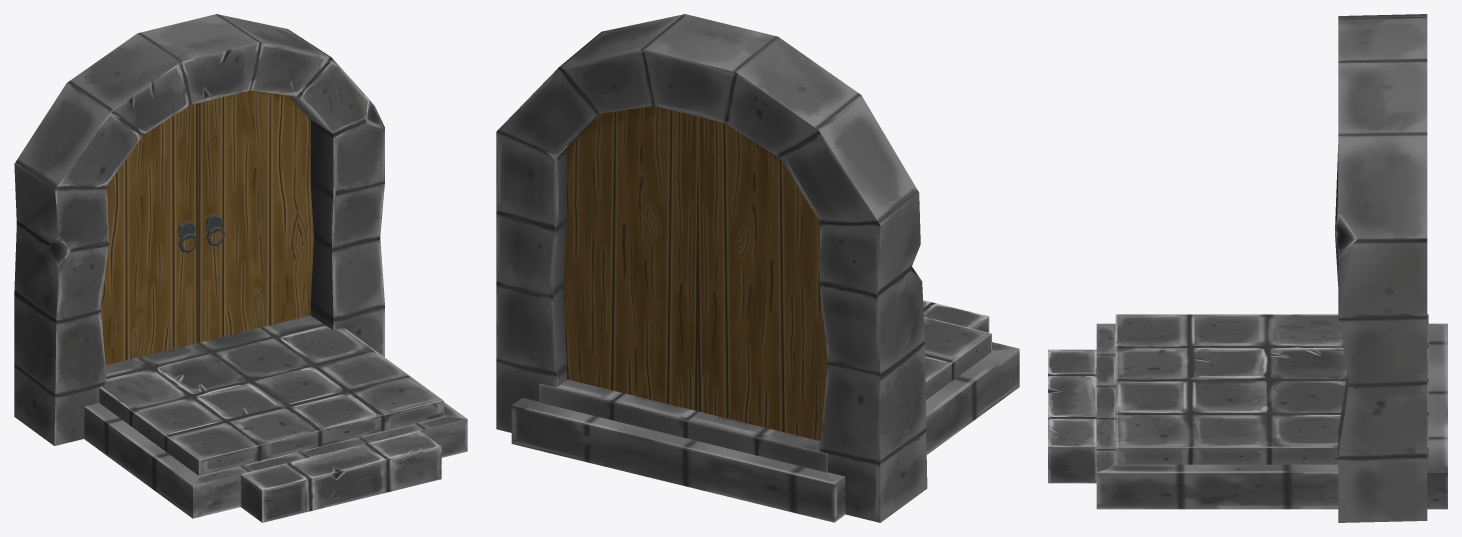
File: Goal_close.fbx
3 views of the same model, side by side, from view 1: azimuth 30°, elevation 25°; view 2: azimuth 150°, elevation 25°; view 3: azimuth 270°, elevation 25° (orthographic). The views are drawn at different scales.
Visible parts, largest first — view 1: pCube12; view 2: pCube12; view 3: pCube12.
Part boxes in pixels (x1=…): pCube12: x1=14, y1=14, x2=467, y2=522; pCube12: x1=496, y1=14, x2=1019, y2=522; pCube12: x1=1048, y1=14, x2=1447, y2=522.
Bounding box in the file's own units: 4.41 × 4.51 × 4.15.
1 material, 1 textured.
